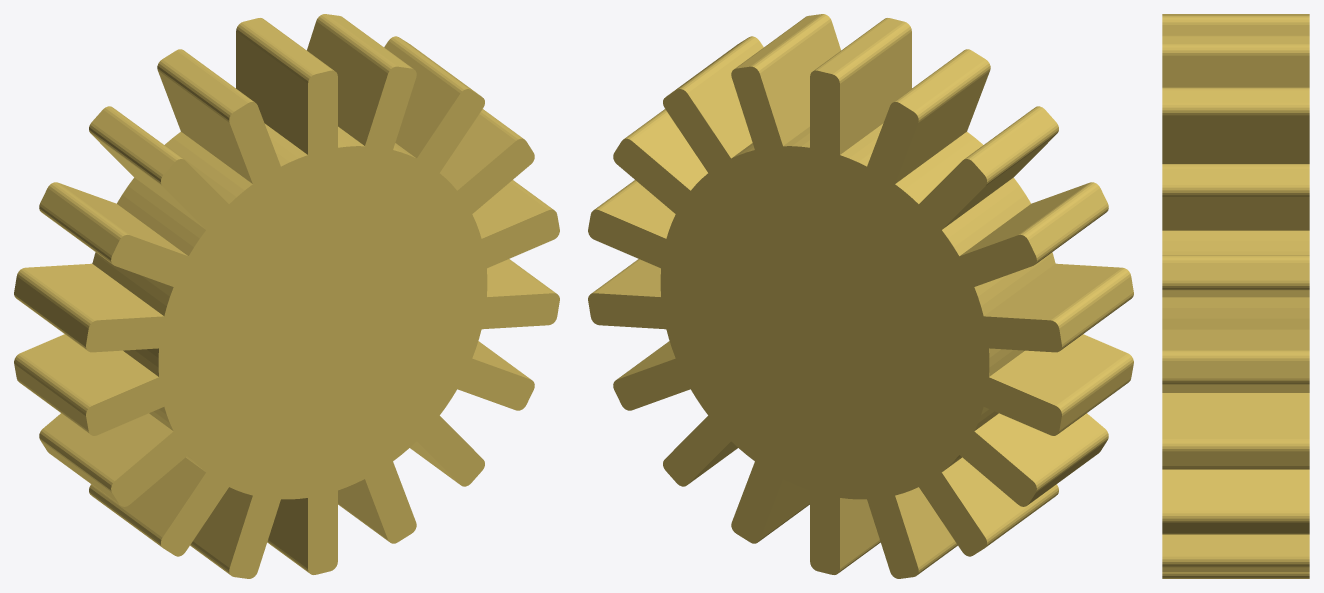
File: rueda_loca_fl_1.dae
3 renders of one model, left to right at view 1: azimuth 30°, elevation 25°; view 2: azimuth 150°, elevation 25°; view 3: azimuth 270°, elevation 25°, orthographic. The views are drawn at different scales.
Parts seen in each view (by area): view 1: nodo; view 2: nodo; view 3: nodo.
Boxes of the visible parts, bbox=[...] form: nodo: bbox=[14, 14, 559, 578]; nodo: bbox=[588, 14, 1133, 578]; nodo: bbox=[1162, 14, 1309, 578].
Bounding box in the file's own units: 0.0951 × 0.025 × 0.096.
